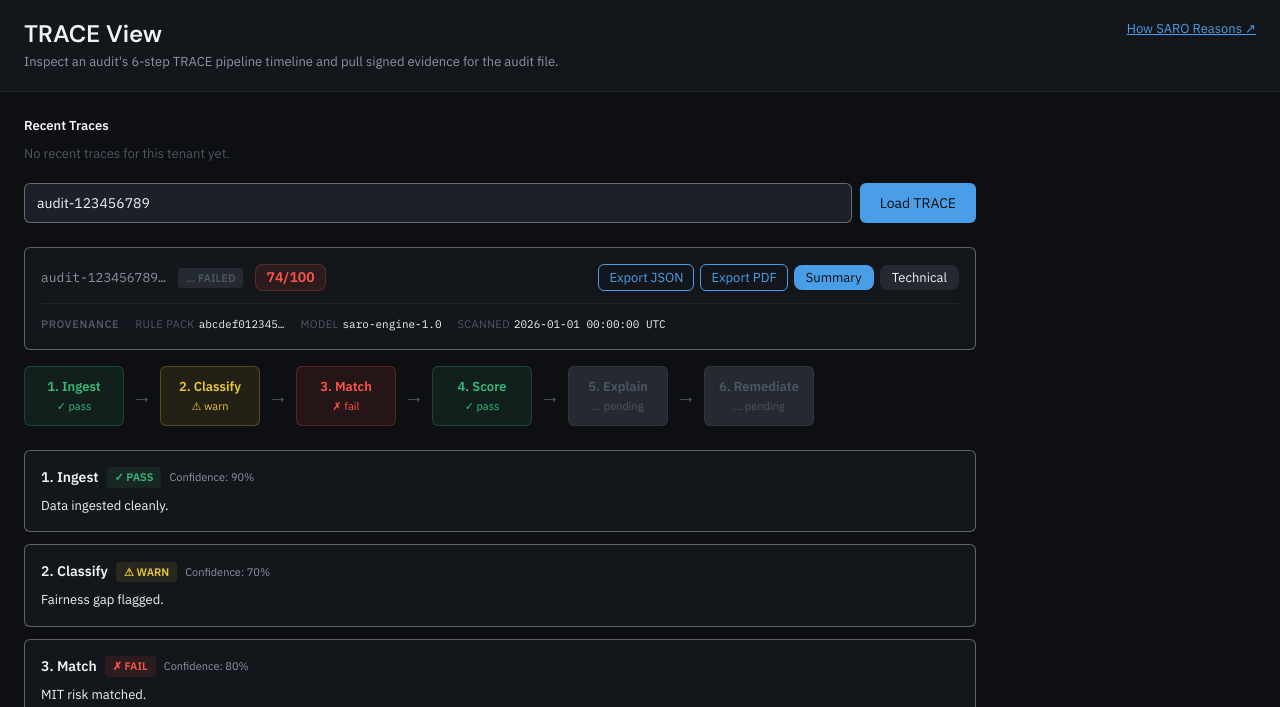
Test: TraceView TRACE-006 signed export actions › shows an inline error and saves nothing on a 403/404 export
This screenshot has width=1280, height=707.
Expected: the text "74/100" is shown, [256,264,326,291]
Click the button "Export JSON".
click(646, 278)  # box [598,264,694,291]
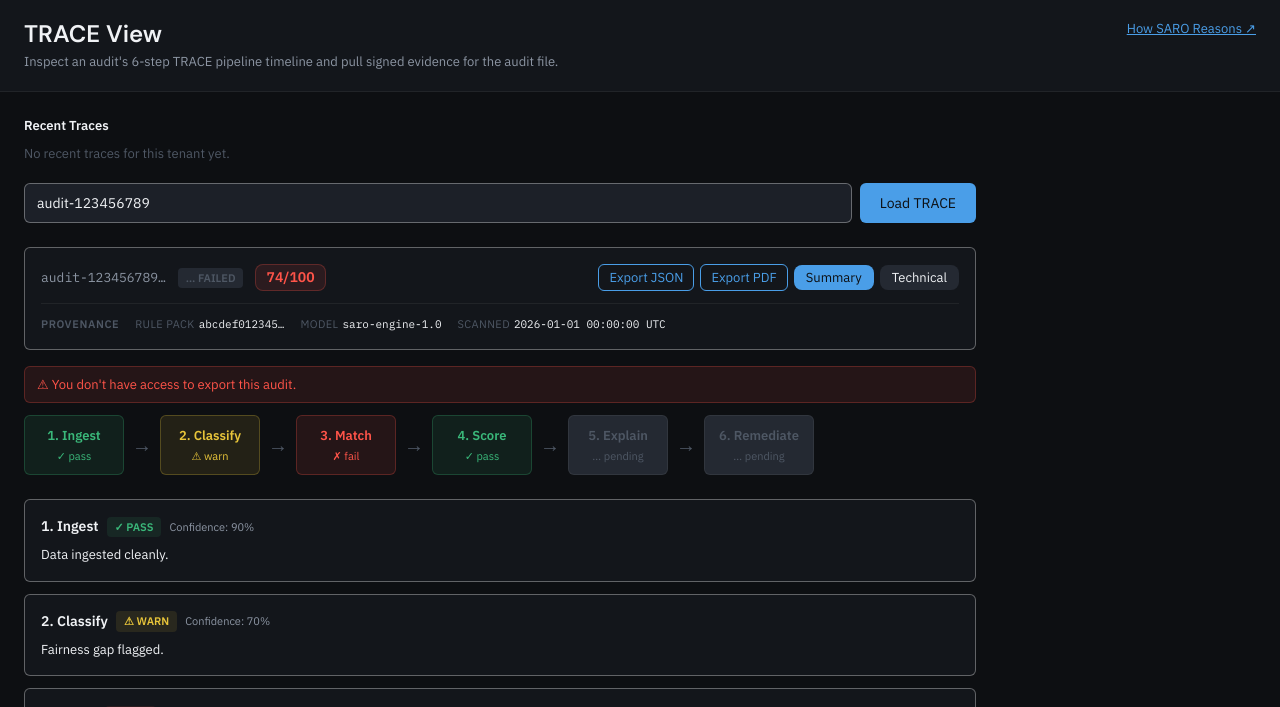
Now the text "⚠ You don't have access to export this audit." is shown, box [24,366,976,403]
